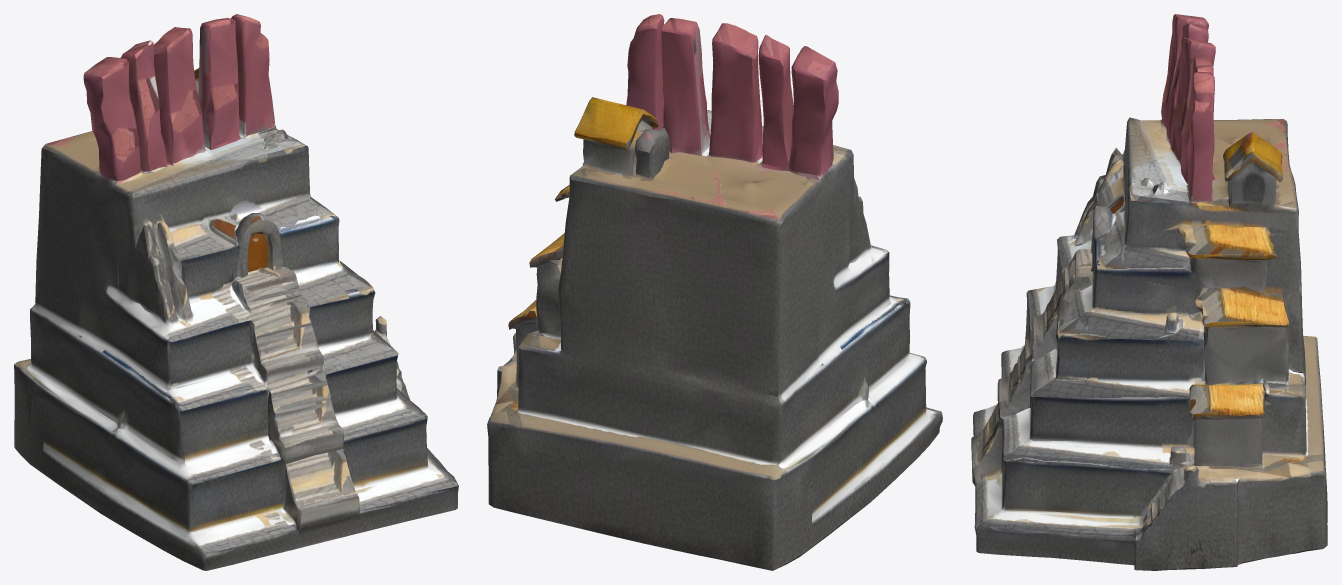
File: tawantinsuyu_maravilla.glb
The picture shows the model from 3 angles, left to right: view 1: azimuth 30°, elevation 25°; view 2: azimuth 150°, elevation 25°; view 3: azimuth 270°, elevation 25°; orthographic projection. The views are drawn at different scales.
Visible parts, largest first — view 1: geometry_0; view 2: geometry_0; view 3: geometry_0.
Part boxes in pixels (left/top/right/bottom): geometry_0: left=14, top=14, right=458, bottom=570; geometry_0: left=487, top=14, right=942, bottom=570; geometry_0: left=971, top=14, right=1327, bottom=570.
Bounding box in the file's own units: 5.4 × 7.2 × 5.36.
Materials: 1 (1 with a texture image).
